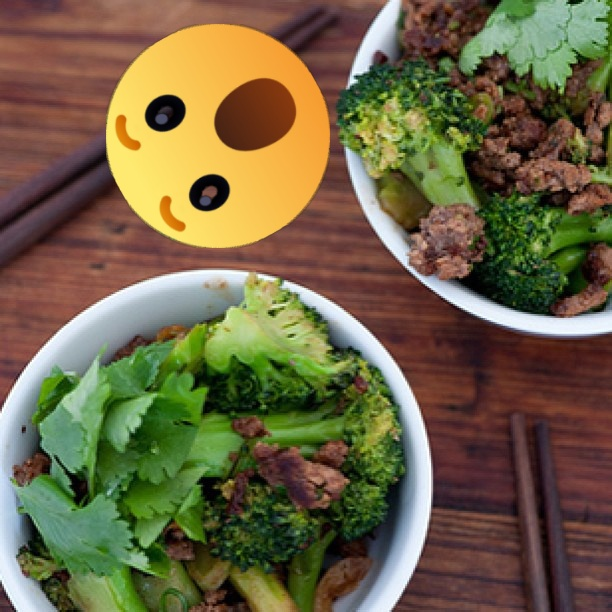wow: (106, 24, 330, 248)
